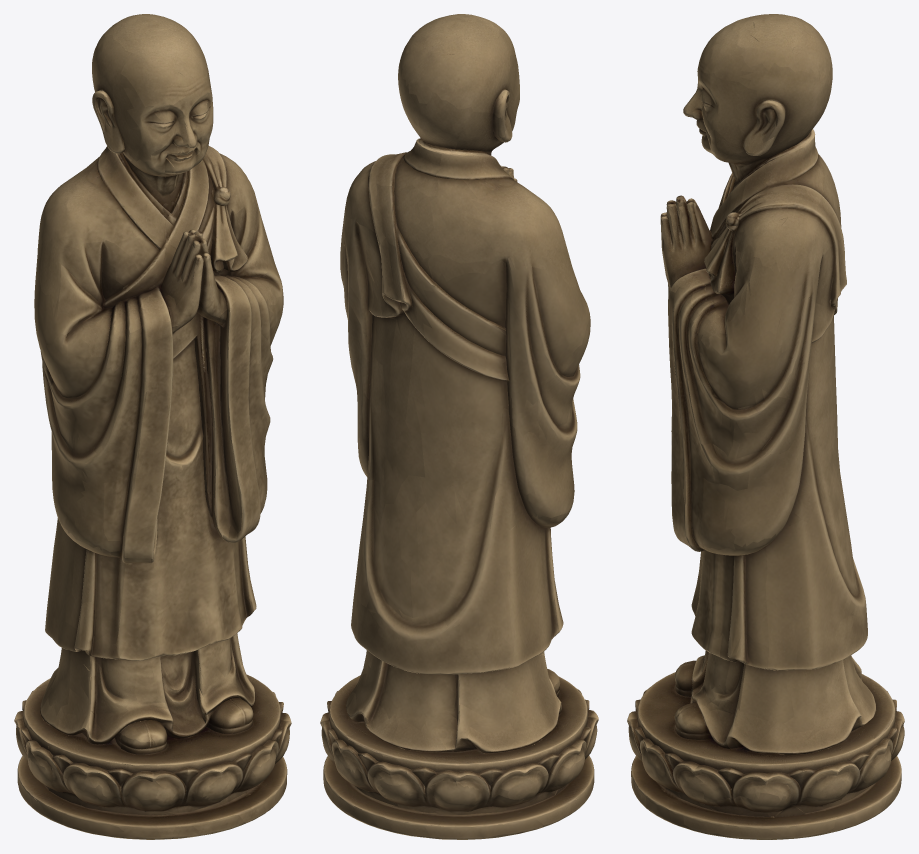
Rendered from Meshy_AI_Korean_style_standing_1116074254_texture.glb.
3 views of the same model, side by side, from view 1: azimuth 30°, elevation 25°; view 2: azimuth 150°, elevation 25°; view 3: azimuth 270°, elevation 25° (orthographic).
Parts seen in each view (by area): view 1: output_unwrapped; view 2: output_unwrapped; view 3: output_unwrapped.
Boxes of the visible parts, box(x1,y1,x2,y2) form: output_unwrapped: box(14, 14, 291, 839); output_unwrapped: box(320, 14, 598, 839); output_unwrapped: box(627, 14, 904, 839).
Bounding box in the file's own units: 0.6301 × 1.9 × 0.6257.
Materials: 1 (1 with a texture image).
